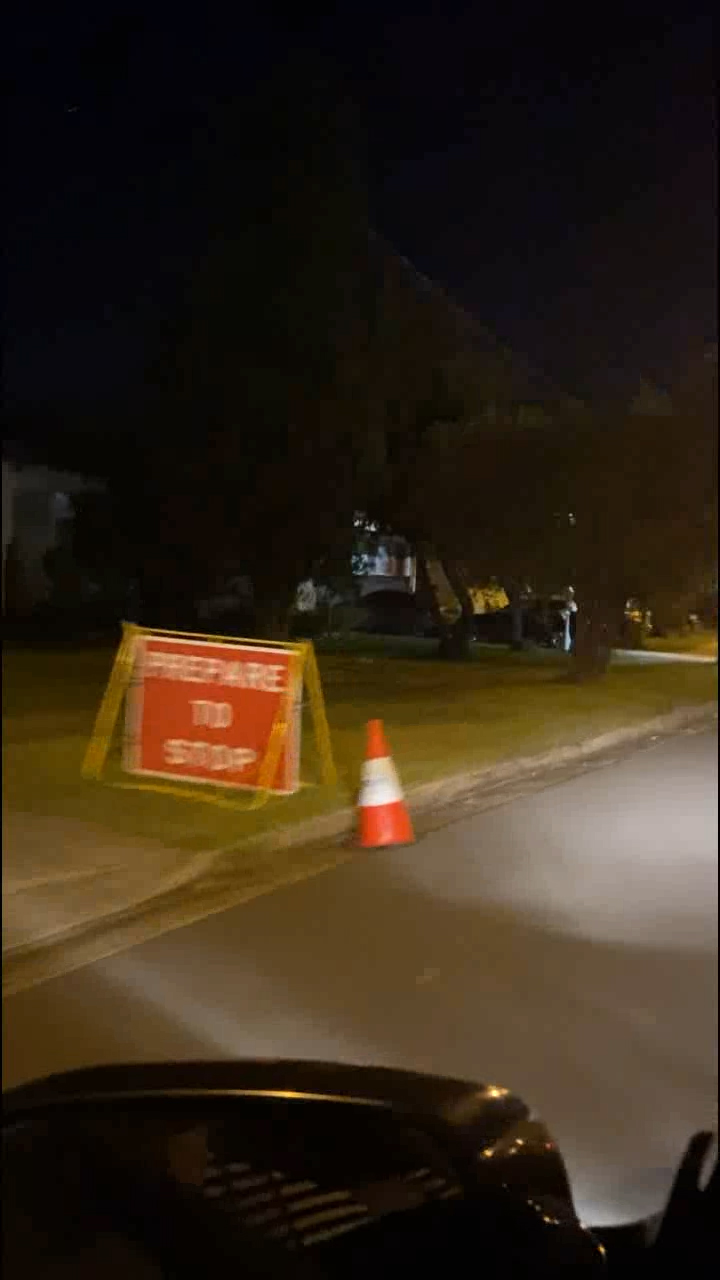prepare to stop board: (103, 626, 298, 807)
road cone: (358, 723, 423, 848)
